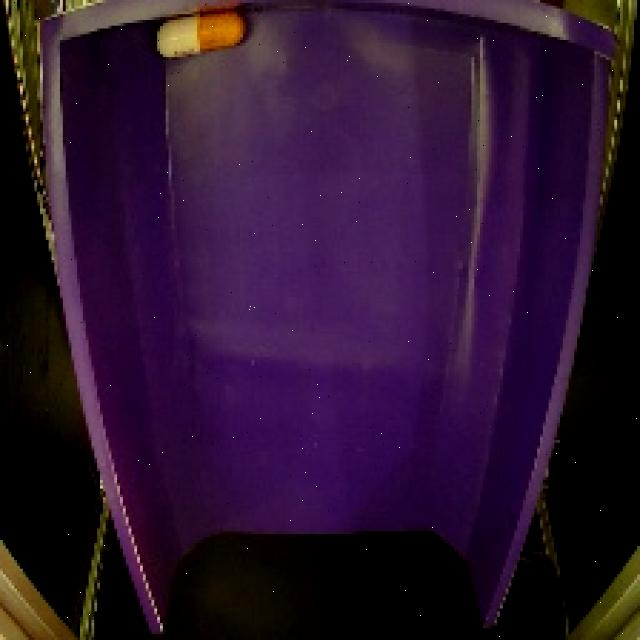small: (145, 10, 263, 70)
